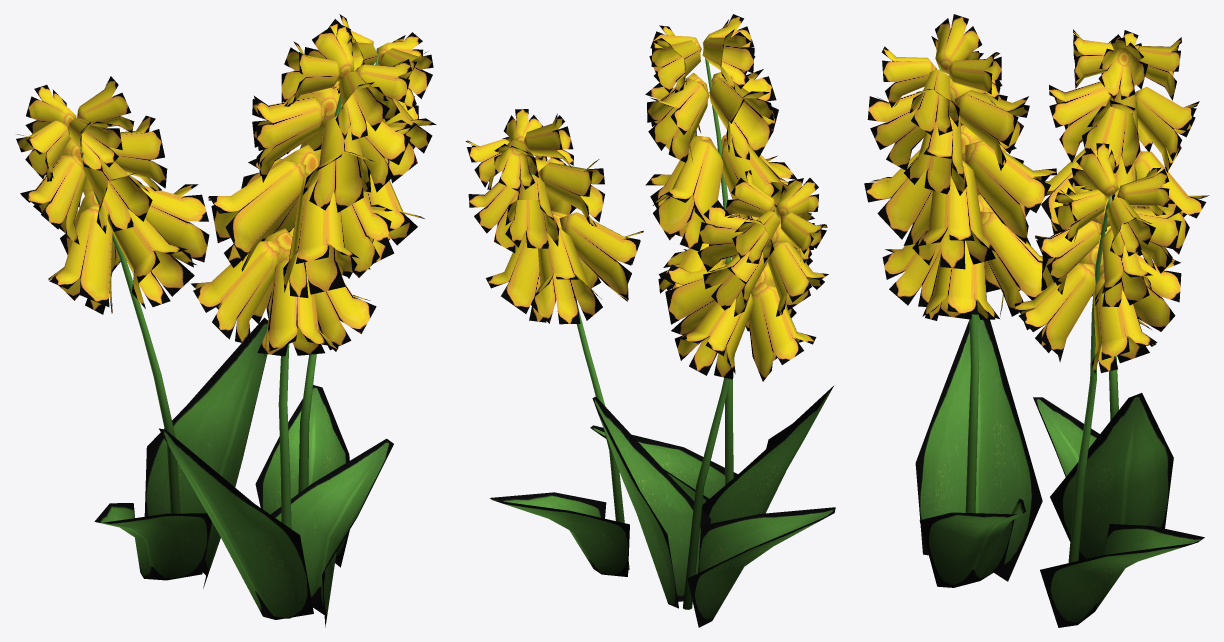
The model's file is flower_4_group.gltf.
3 renders of one model, left to right at view 1: azimuth 30°, elevation 25°; view 2: azimuth 150°, elevation 25°; view 3: azimuth 270°, elevation 25°, orthographic. The views are drawn at different scales.
Visible parts, largest first — view 1: Flower_4_Group; view 2: Flower_4_Group; view 3: Flower_4_Group.
Part boxes in pixels (x1,y1,x2,y2): Flower_4_Group: [16, 14, 436, 627]; Flower_4_Group: [465, 14, 835, 627]; Flower_4_Group: [864, 14, 1209, 627].
Size of the model in its own units: 1.78 by 2.49 by 1.37.
Materials: 2 (2 with a texture image).
